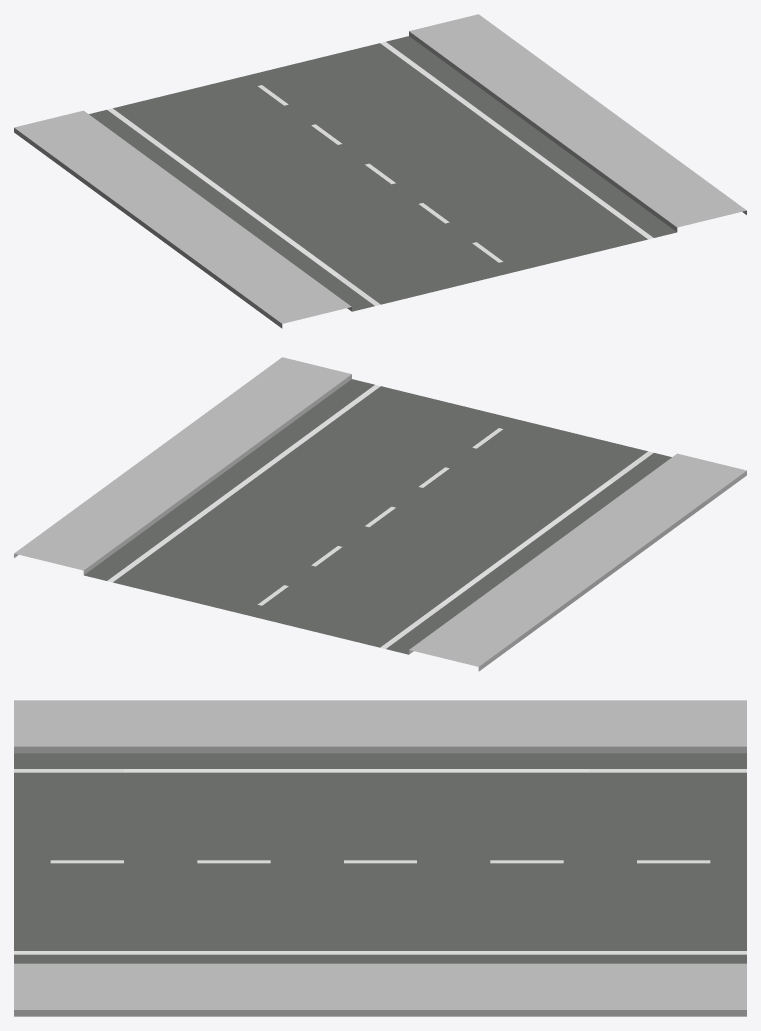
File: Straight_1.fbx
3 renders of one model, top to bottom at view 1: azimuth 30°, elevation 25°; view 2: azimuth 150°, elevation 25°; view 3: azimuth 270°, elevation 25°, orthographic. The views are drawn at different scales.
Parts seen in each view (by area): view 1: Plane; view 2: Plane; view 3: Plane.
Boxes of the visible parts, bbox=[...] form: Plane: bbox=[14, 14, 746, 328]; Plane: bbox=[14, 357, 746, 671]; Plane: bbox=[14, 700, 746, 1016].
Bounding box in the file's own units: 15 × 0.15 × 15.
